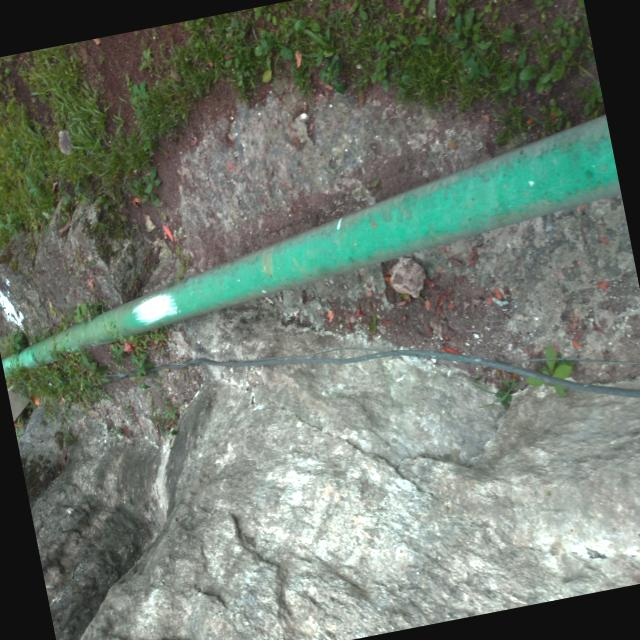gas: (0, 112, 621, 384)
